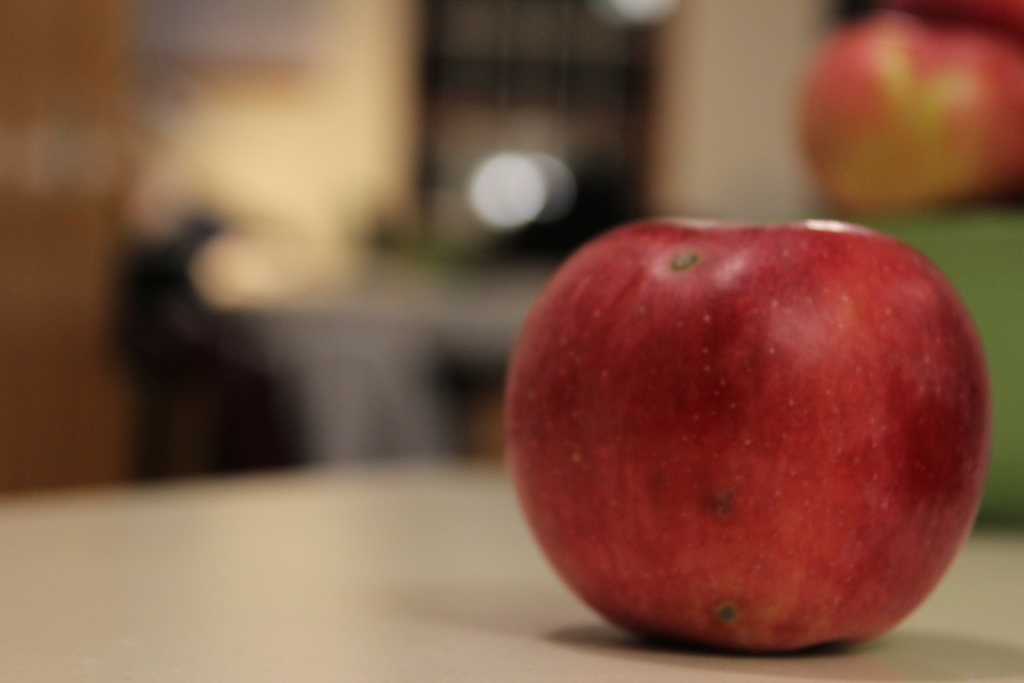Apple: (486, 198, 995, 652), (799, 5, 1023, 217)
